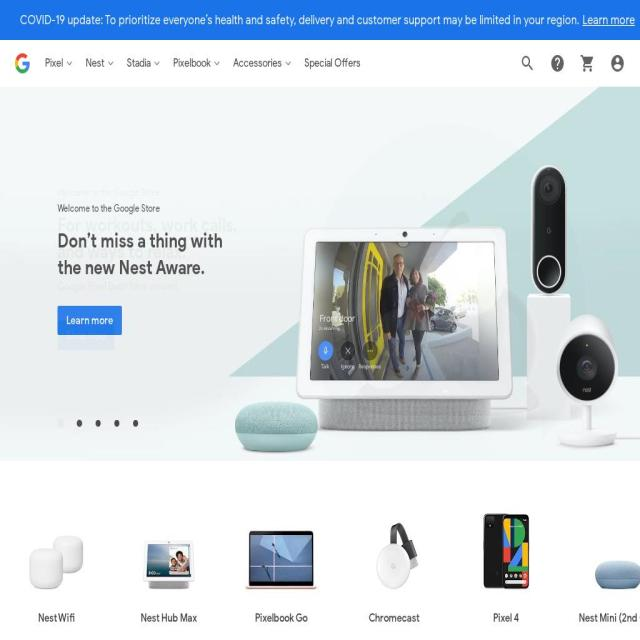button: (113, 502, 225, 640), (225, 502, 337, 640), (338, 502, 450, 640), (450, 502, 562, 640), (0, 502, 112, 639), (562, 502, 640, 640), (58, 305, 122, 335), (233, 54, 292, 72), (304, 54, 360, 72), (173, 54, 221, 72), (127, 54, 161, 72), (45, 54, 73, 72), (86, 54, 114, 72), (15, 52, 30, 76), (520, 52, 535, 74), (610, 52, 625, 74), (580, 53, 595, 71), (550, 56, 565, 73), (57, 418, 64, 428), (77, 420, 84, 429), (115, 420, 122, 429), (133, 420, 140, 429), (96, 420, 102, 429)
image: (0, 86, 640, 462), (0, 87, 640, 455), (18, 502, 94, 604), (356, 502, 432, 604), (468, 502, 544, 604), (132, 502, 206, 604), (244, 502, 318, 604), (581, 502, 640, 604), (15, 52, 30, 74), (520, 52, 535, 74), (550, 52, 565, 74), (580, 52, 595, 74), (610, 52, 625, 74), (57, 418, 64, 428), (77, 420, 84, 429), (115, 420, 122, 429), (133, 420, 140, 429), (96, 420, 102, 429)
link: (583, 12, 635, 28)
text: (58, 227, 250, 281), (20, 12, 579, 28), (58, 200, 250, 215), (134, 611, 203, 627), (572, 611, 640, 627), (248, 611, 314, 627), (362, 611, 426, 627), (31, 611, 81, 627), (66, 312, 114, 328), (486, 611, 526, 627)
